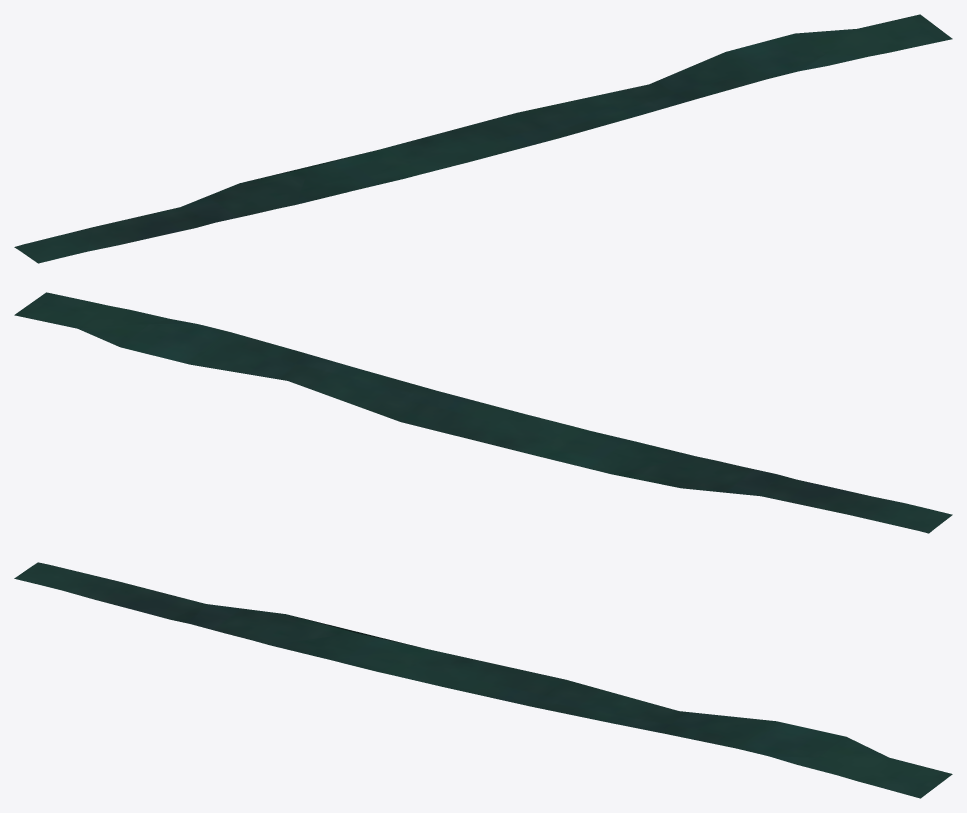
3 views of the same model, one above another, from view 1: azimuth 30°, elevation 25°; view 2: azimuth 150°, elevation 25°; view 3: azimuth 330°, elevation 25° (orthographic).
Size of the model in its own units: 52.22 by 0.7373 by 4.13.
Materials: 1 (1 with a texture image).
